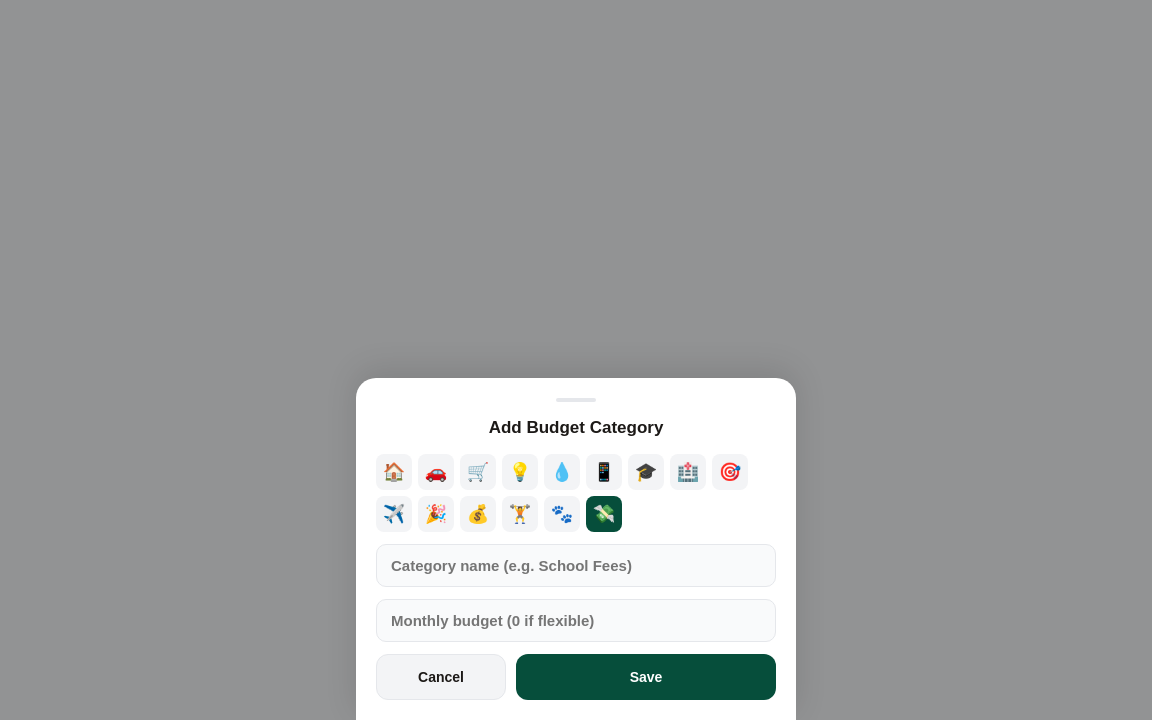
Test: AddCategorySheet › shows validation error when name is empty
Type "500" into the number field with test id "add-cat-amount-input" at [576, 620], box [376,599,776,642]
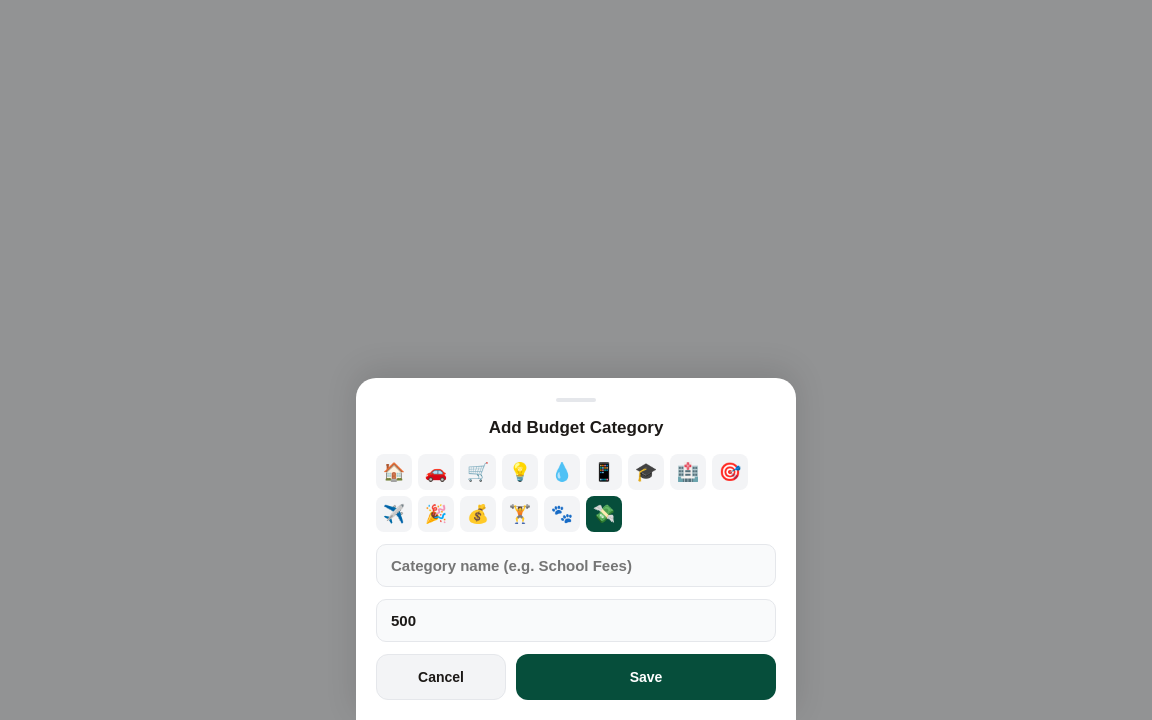
Click the button "Save" at [646, 677], box [516,654,776,700]
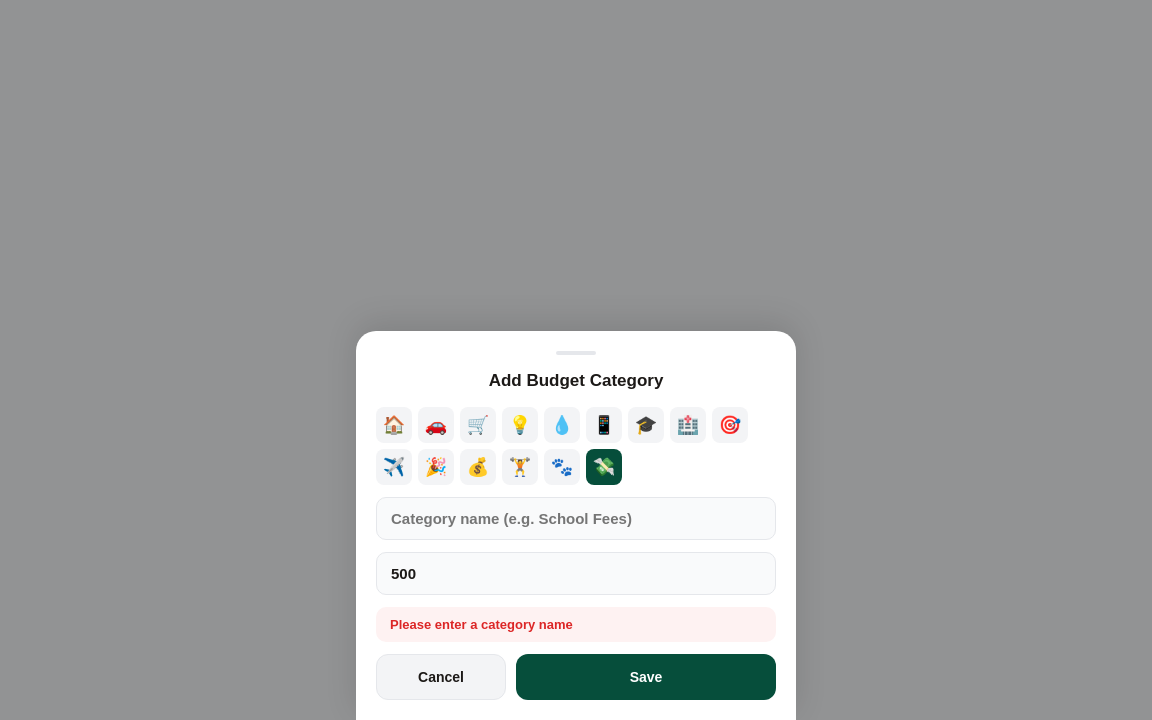
Expected: the text "Please enter a category name" is shown, [390,617,573,632]
